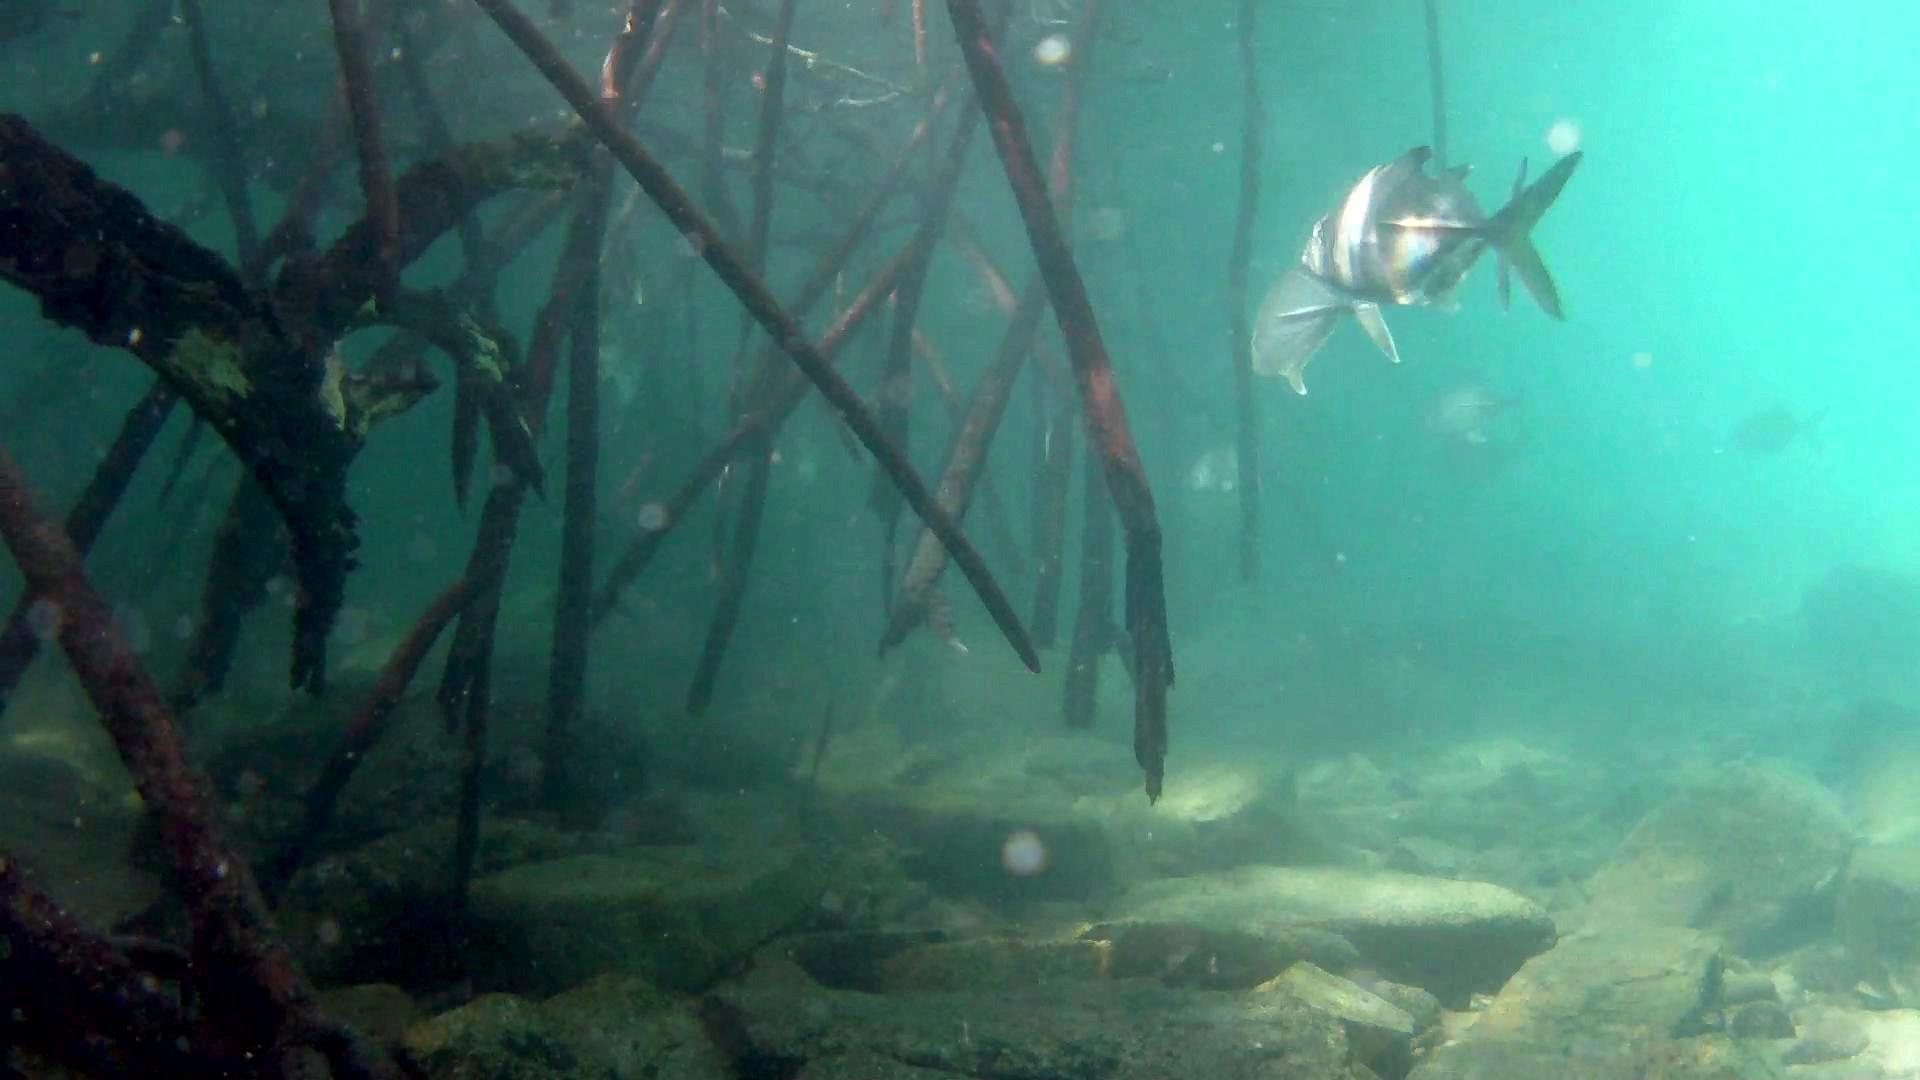caranx: (1295, 121, 1536, 319)
